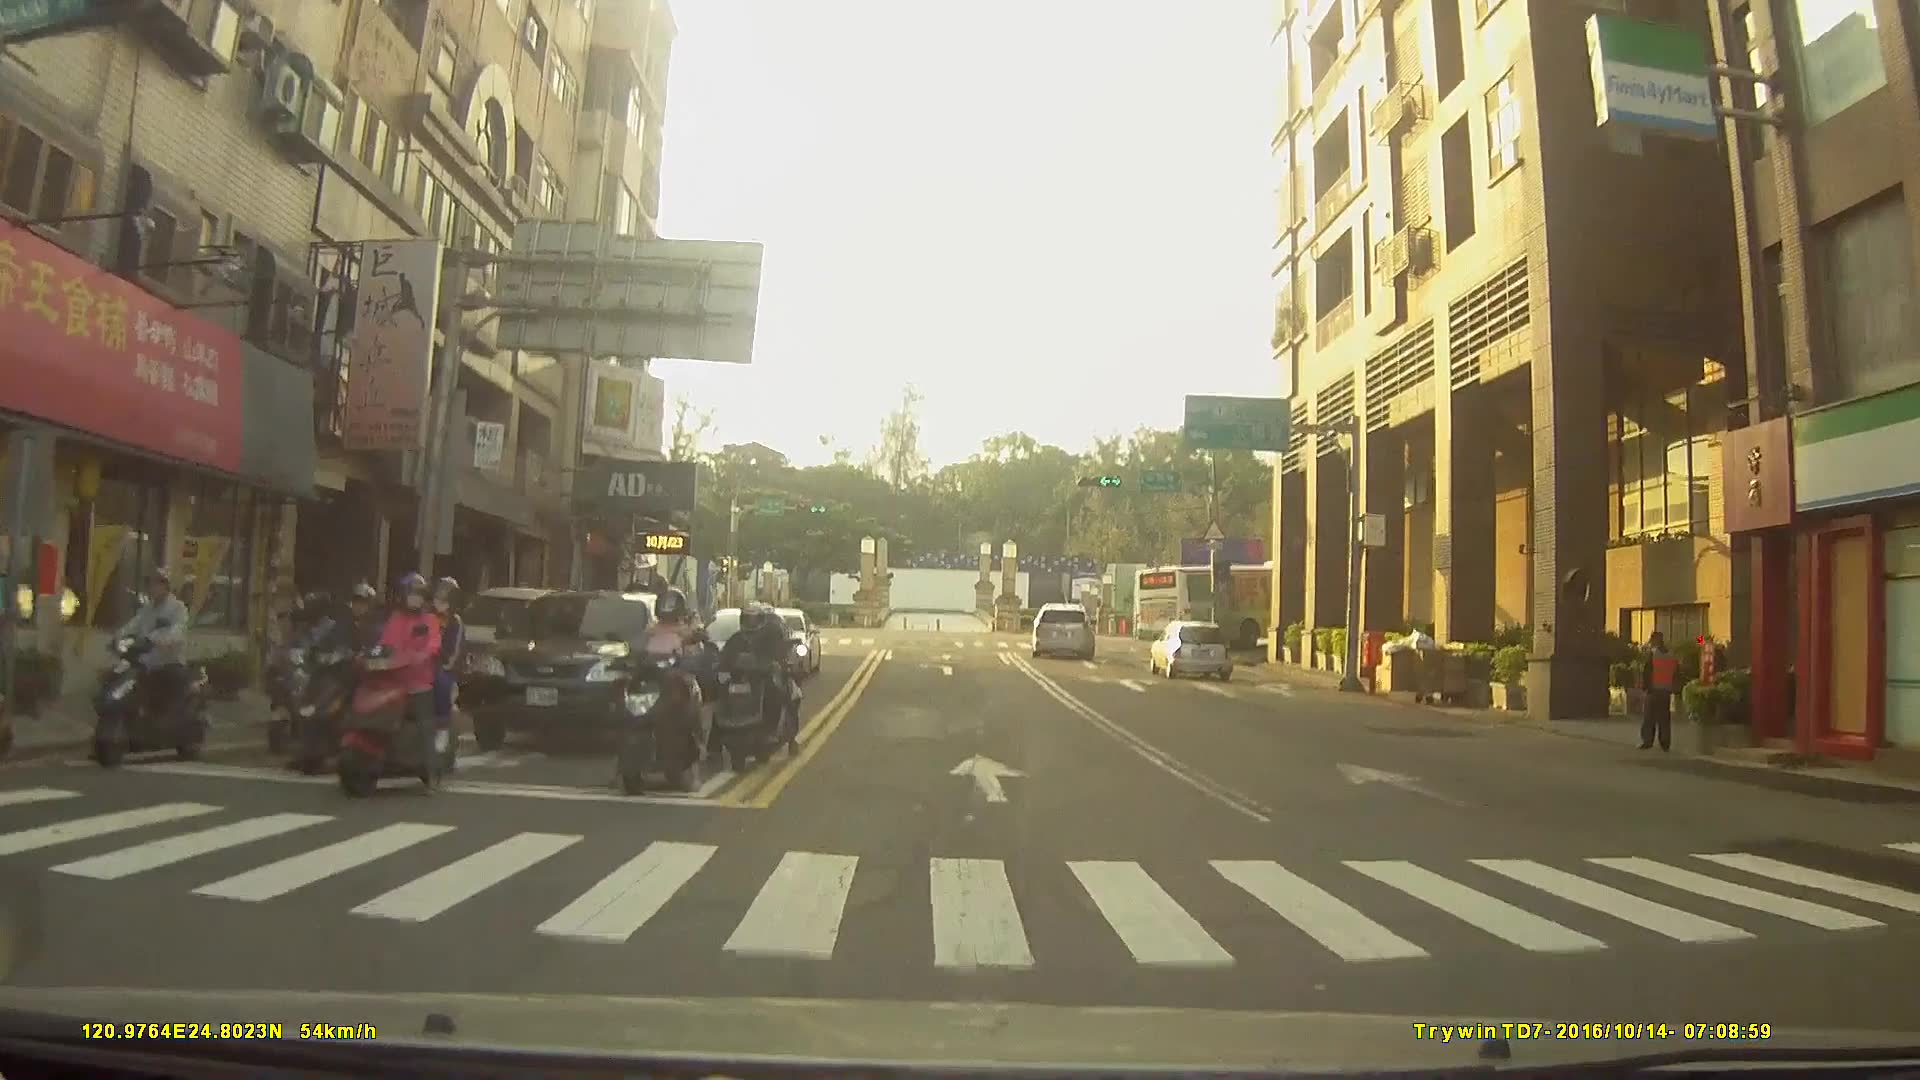pedestrian: (1628, 628, 1690, 759)
rider: (331, 571, 469, 802), (88, 562, 207, 776), (609, 586, 722, 799), (290, 580, 411, 777), (709, 603, 801, 780)
vehicle: (463, 587, 697, 754), (1132, 555, 1356, 649), (1145, 617, 1231, 676), (1029, 600, 1097, 657)
